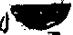Basket: (1, 3, 71, 33)
